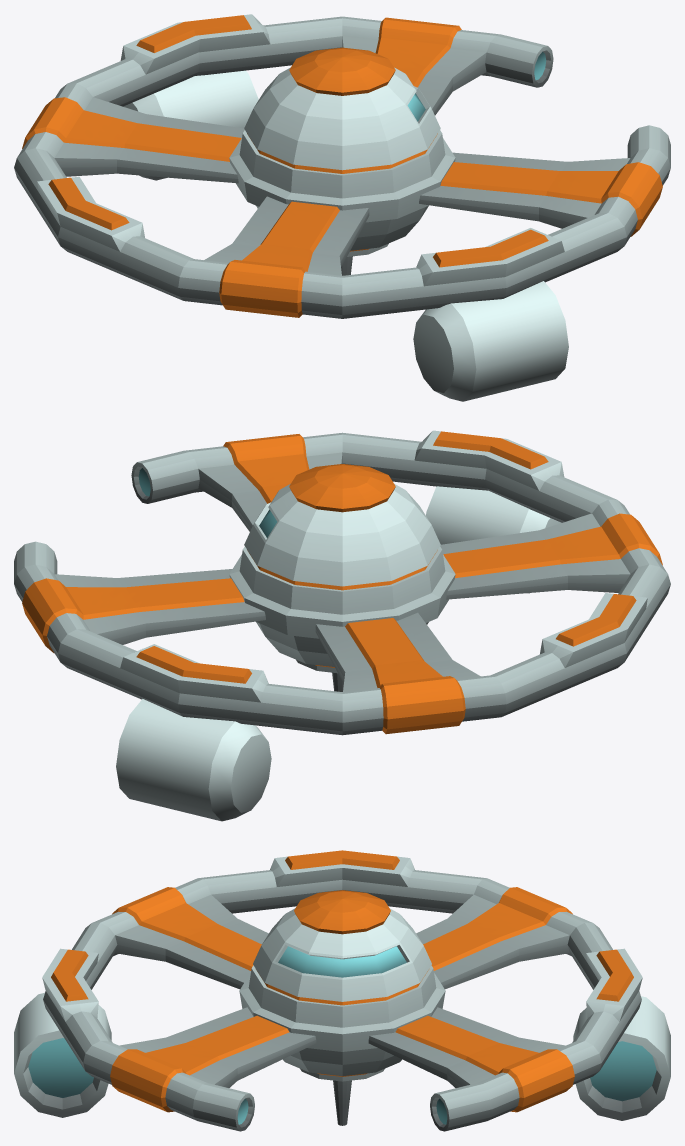
File: Space_Station_2.fbx
3 views of the same model, one above another, from view 1: azimuth 30°, elevation 25°; view 2: azimuth 150°, elevation 25°; view 3: azimuth 270°, elevation 25° (orthographic). The views are drawn at different scales.
Parts seen in each view (by area): view 1: Space_Station_2; view 2: Space_Station_2; view 3: Space_Station_2.
Part boxes in pixels (left/top/right/bottom): Space_Station_2: left=14, top=14, right=670, bottom=401; Space_Station_2: left=14, top=430, right=670, bottom=821; Space_Station_2: left=14, top=850, right=670, bottom=1131.
Bounding box in the file's own units: 1007 × 429 × 1132.
Materials: 1 (1 with a texture image).
